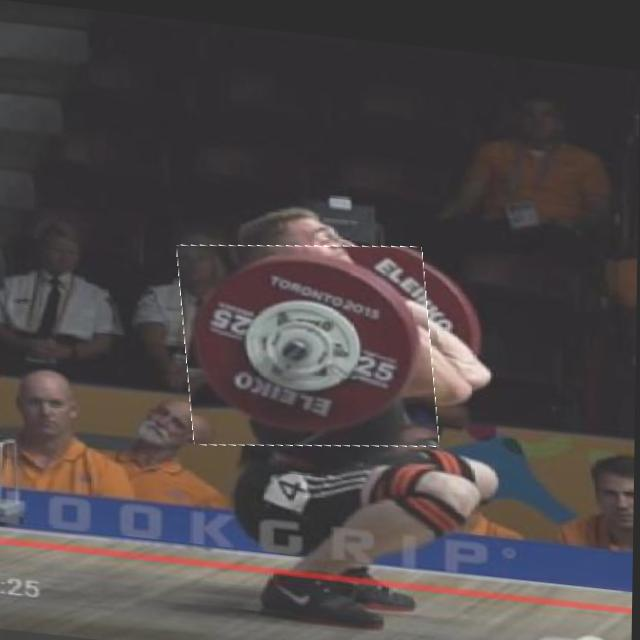barbell: (181, 223, 439, 456)
